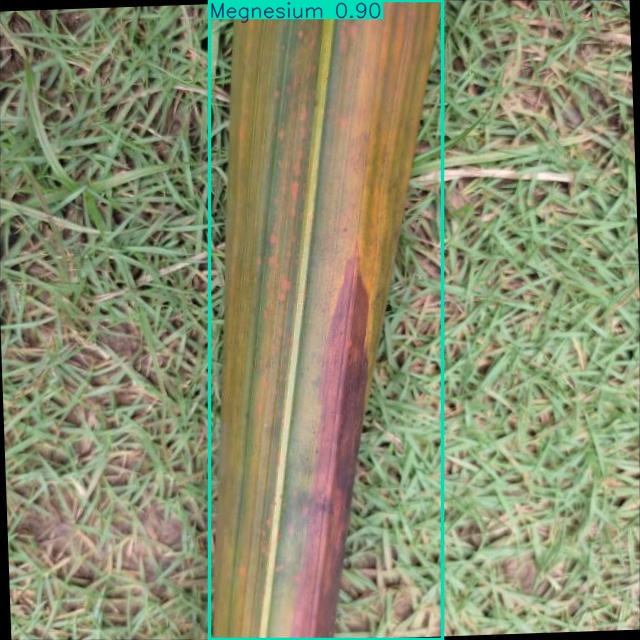Megnesium: (210, 0, 443, 640)
